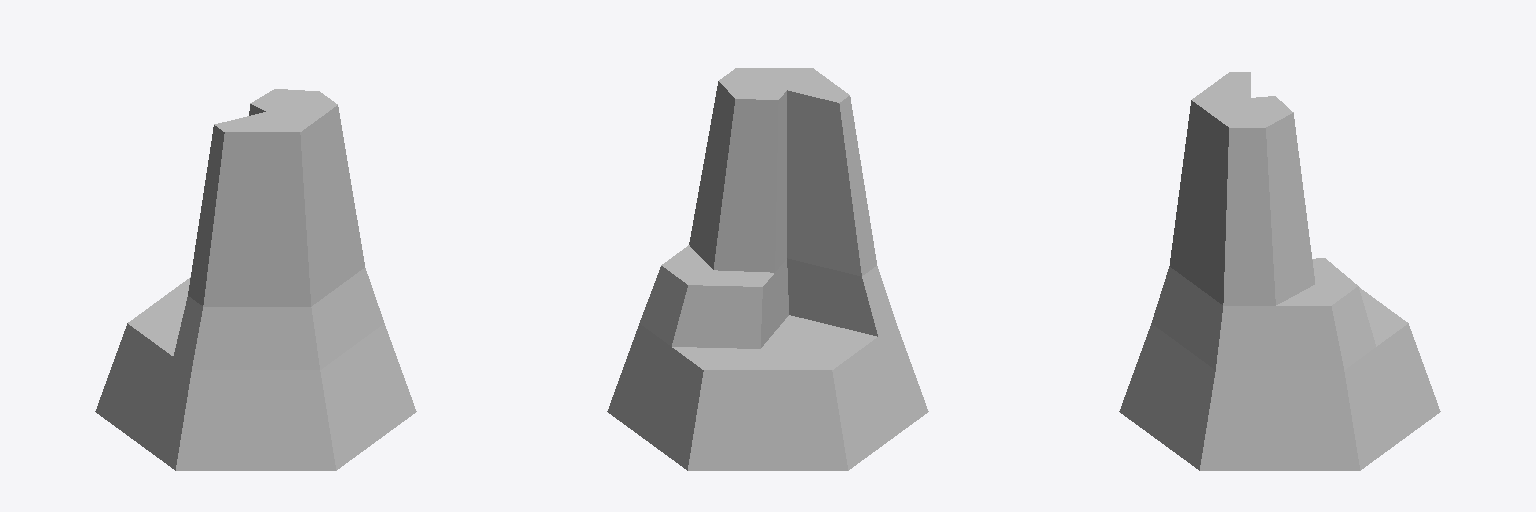
Rendered from rockFormationSmall.obj.
The picture shows the model from 3 angles: view 1: azimuth 30°, elevation 25°; view 2: azimuth 150°, elevation 25°; view 3: azimuth 270°, elevation 25°; orthographic projection.
Parts seen in each view (by area): view 1: rockFormationSmall; view 2: rockFormationSmall; view 3: rockFormationSmall.
Boxes of the visible parts, box(x1,y1,x2,y2) form: rockFormationSmall: box(95, 89, 416, 470); rockFormationSmall: box(607, 68, 928, 470); rockFormationSmall: box(1119, 72, 1440, 470).
Bounding box in the file's own units: 0.5399 × 0.6674 × 0.6234.